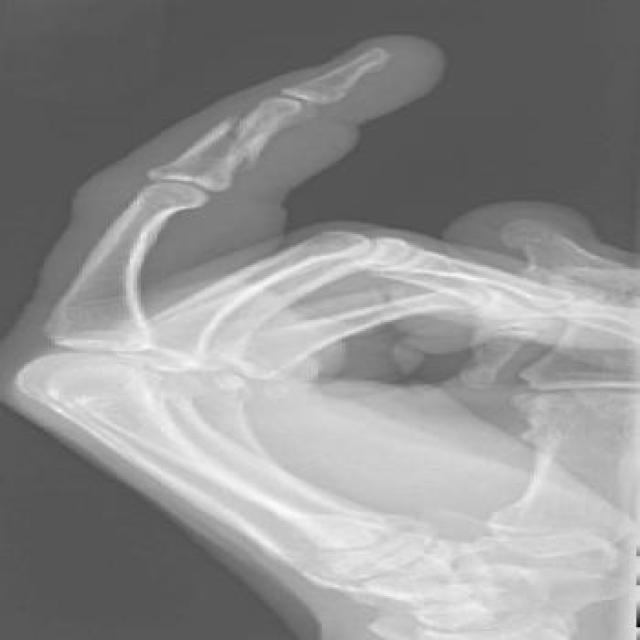fracture: (190, 110, 294, 174)
